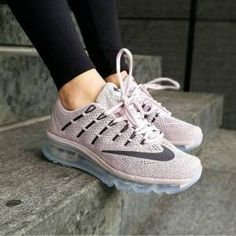nike: (102, 146, 176, 162)
